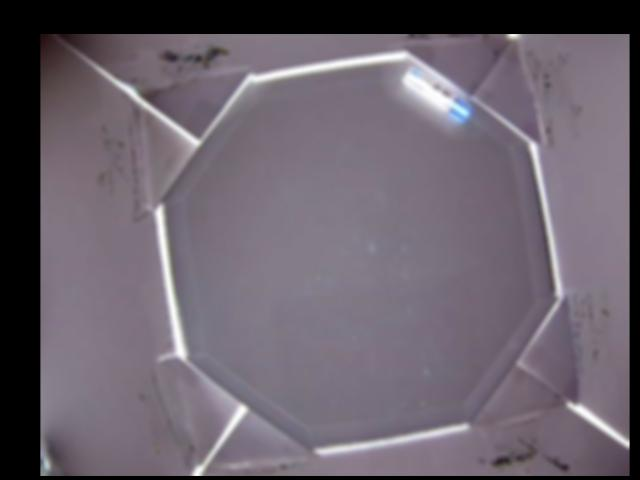Battery: (401, 68, 473, 124)
